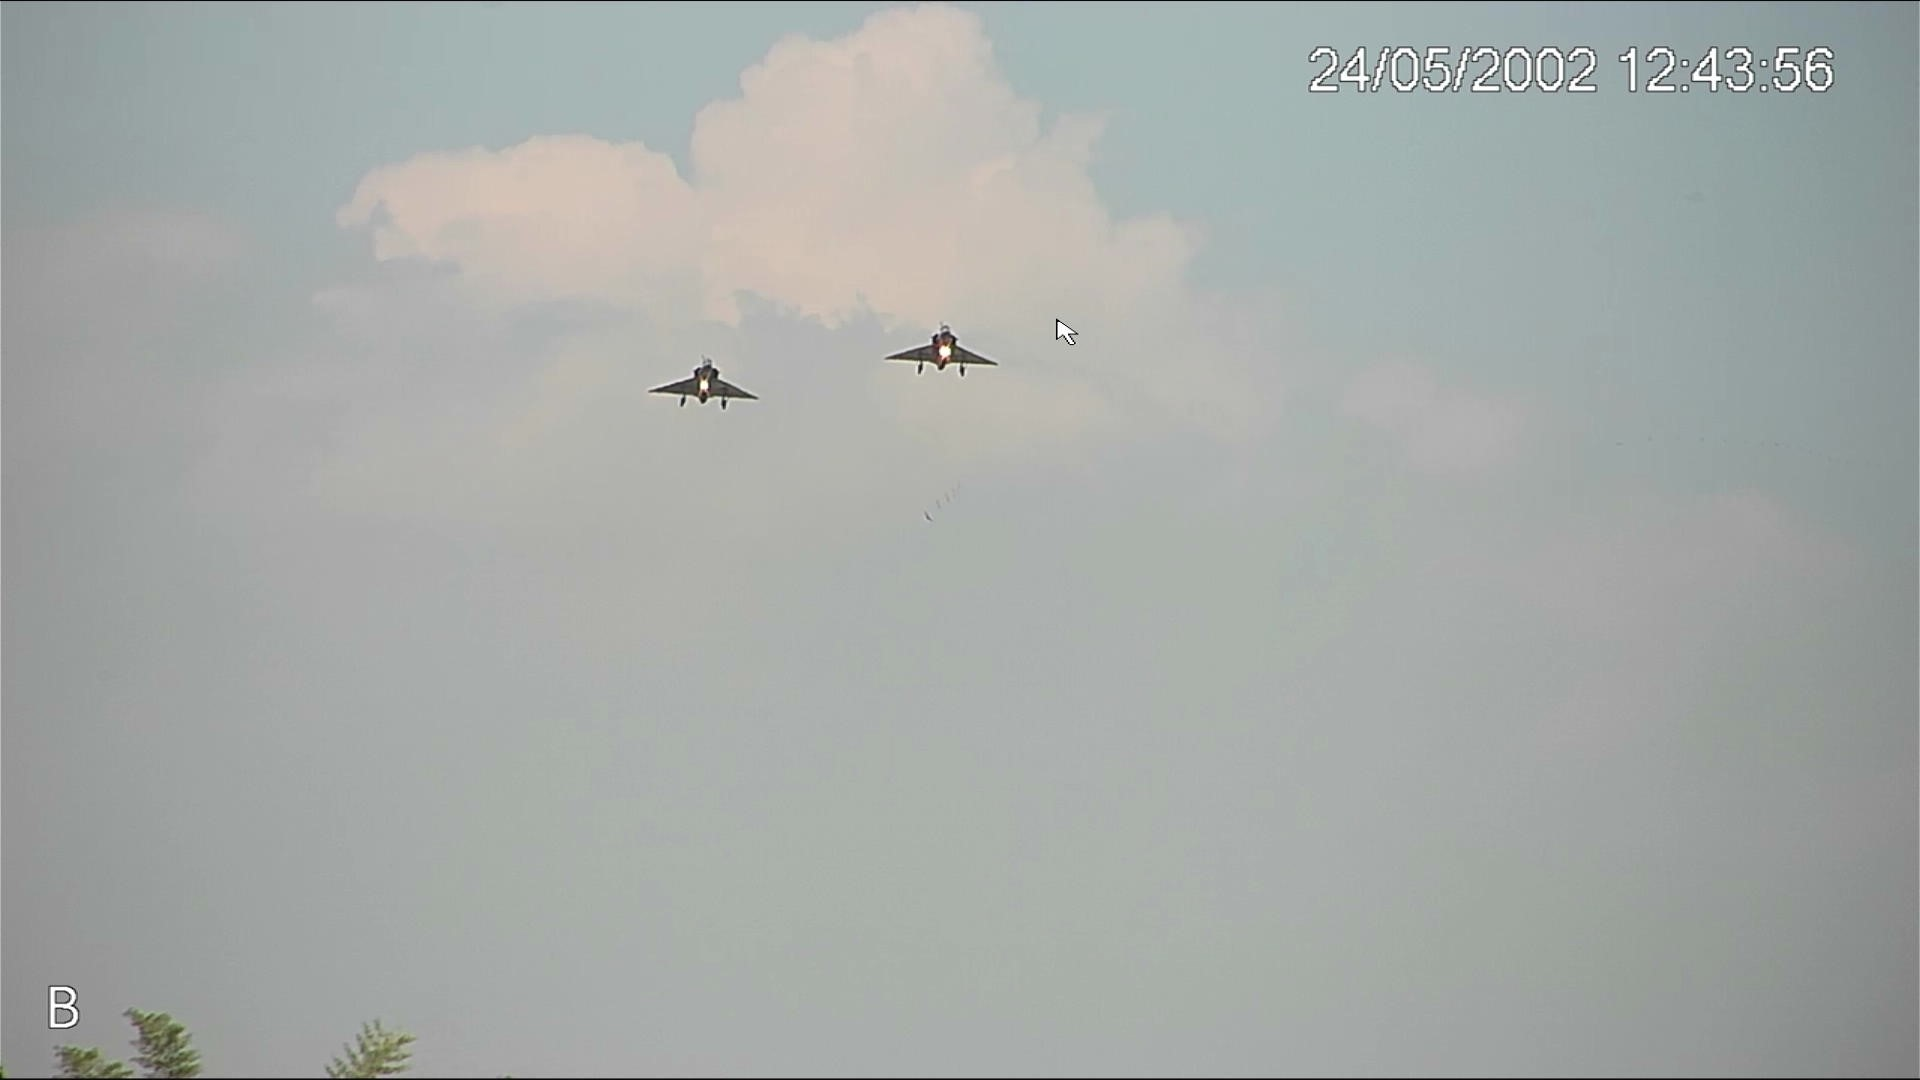SU_30: (878, 322, 1001, 378), (646, 356, 760, 411)
